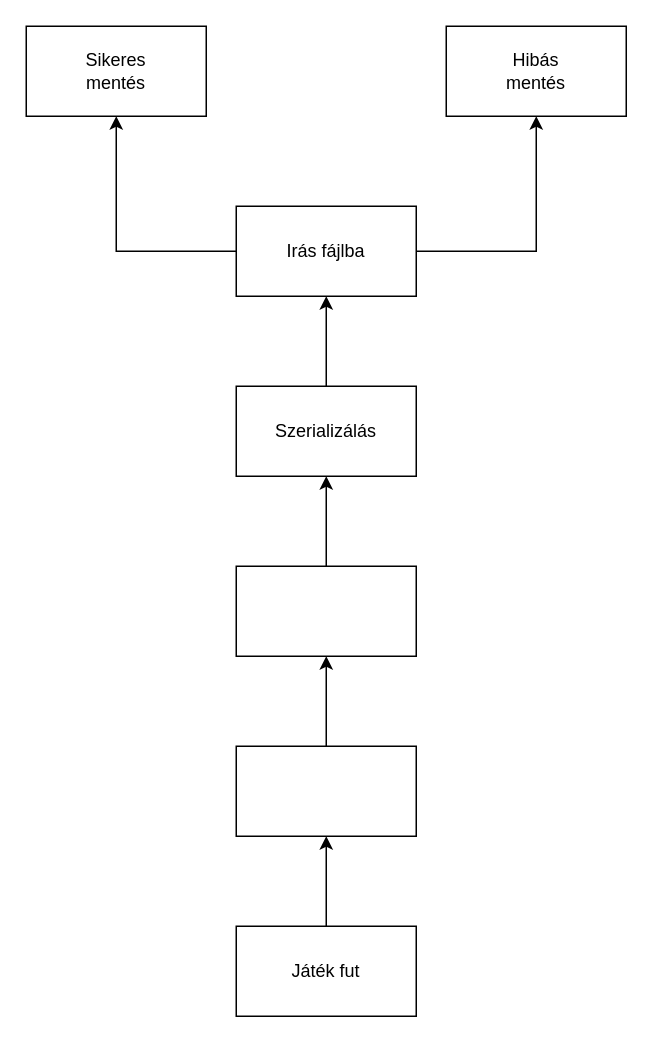
The diagram is 653 pixels wide and 1043 high, and some of its shapes have lost their labels. Here are the shapes that lost their labels. From the top down, the box of each, then its label:
(235, 565, 416, 656): Játékállapot összegyüjtése
(235, 745, 416, 836): Mentés inditva
